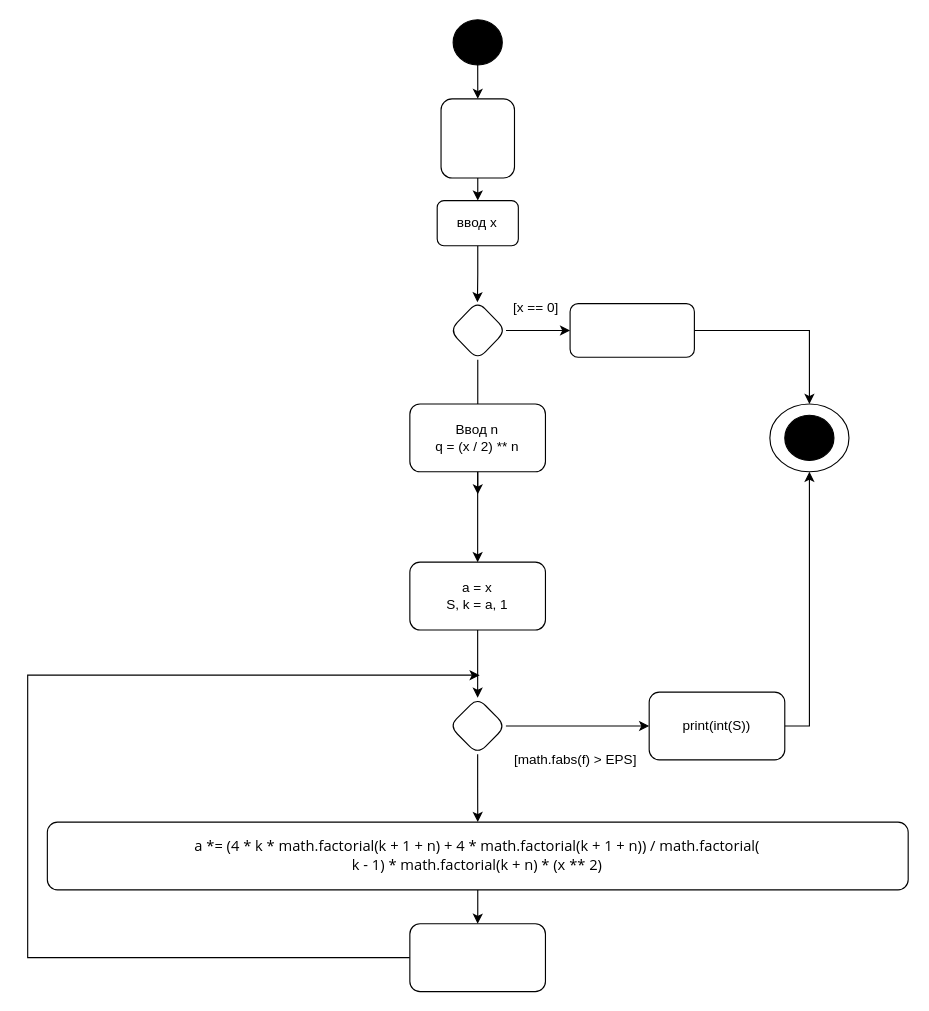
Some shapes in this 929 by 1011 pixel diagram are drawn without their labels. Here are the shapes that lost their labels. From the top down, the centre of each, then its label:
(477,138): EPS := 1e-10
(631,330): Вывод: "Illegal value of x"
(477,957): S += a k += 1
